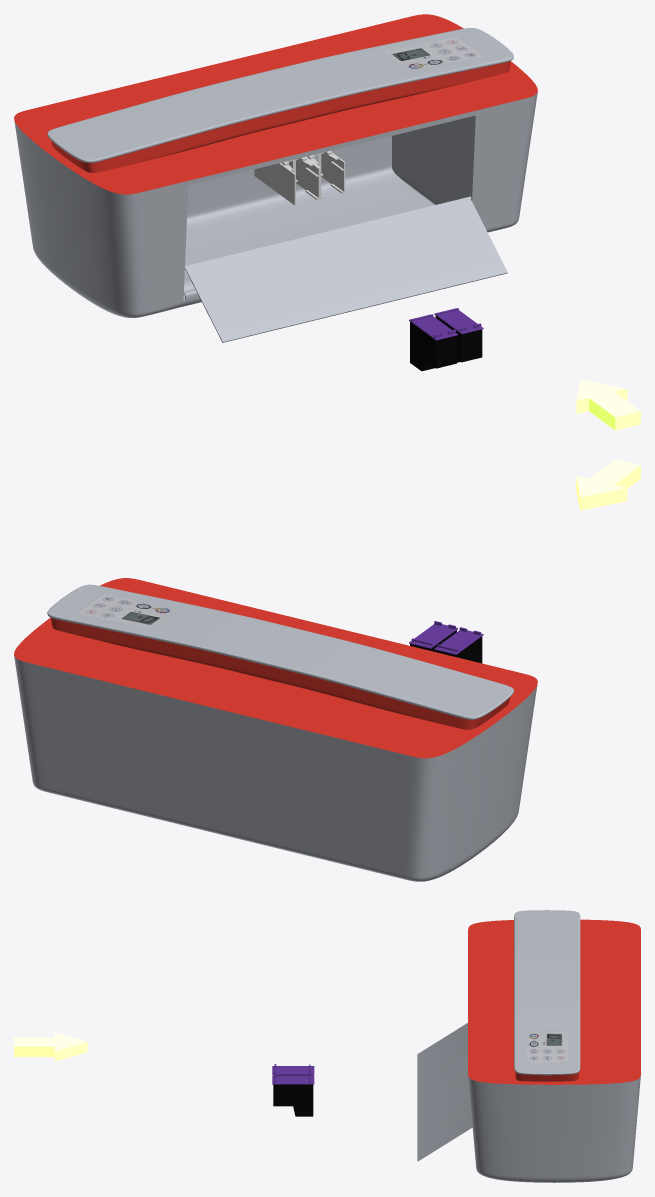
3 renders of one model, top to bottom at view 1: azimuth 30°, elevation 25°; view 2: azimuth 150°, elevation 25°; view 3: azimuth 270°, elevation 25°, orthographic. The views are drawn at different scales.
Parts seen in each view (by area): view 1: Base, PrinterCover, Cartridge, CartridgeBlock, Arrow; view 2: Base, Arrow, Cartridge; view 3: Base, PrinterCover, Cartridge, Arrow.
Boxes of the visible parts, bbox=[...] form: Base: bbox=[14, 14, 537, 317]; PrinterCover: bbox=[185, 196, 507, 342]; Cartridge: bbox=[409, 308, 483, 371]; CartridgeBlock: bbox=[254, 151, 345, 205]; Arrow: bbox=[576, 379, 640, 430]; Base: bbox=[14, 578, 537, 881]; Arrow: bbox=[576, 459, 640, 510]; Cartridge: bbox=[409, 621, 483, 663]; Base: bbox=[468, 910, 640, 1182]; PrinterCover: bbox=[417, 1023, 472, 1161]; Cartridge: bbox=[272, 1064, 314, 1116]; Arrow: bbox=[14, 1032, 87, 1061].
Size of the model in its own units: 0.4008 by 0.138 by 0.6417.
Materials: 7 (1 with a texture image).
